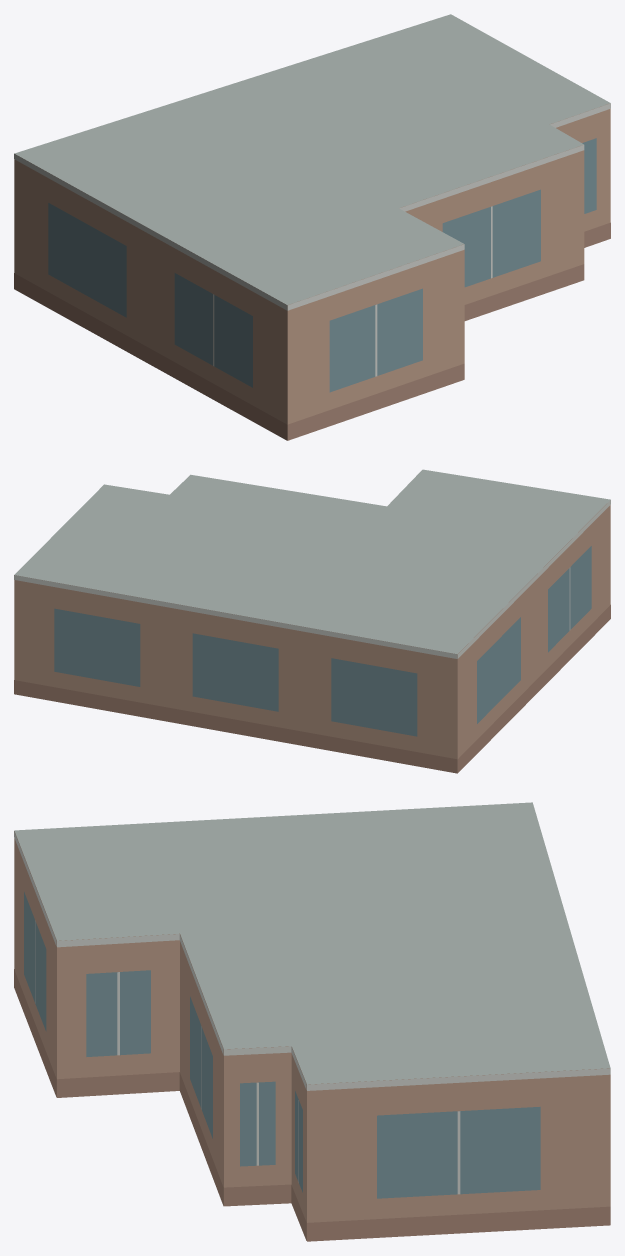
Rendered from survey-upis-32638762.glb.
The picture shows the model from 3 angles, top to bottom: view 1: azimuth 30°, elevation 25°; view 2: azimuth 150°, elevation 25°; view 3: azimuth 270°, elevation 25°; orthographic projection. The views are drawn at different scales.
Visible parts, largest first — view 1: survey-upis-32638762.tmp; view 2: survey-upis-32638762.tmp; view 3: survey-upis-32638762.tmp.
Part boxes in pixels (bbox=[...]): survey-upis-32638762.tmp: bbox=[14, 14, 610, 440]; survey-upis-32638762.tmp: bbox=[14, 469, 610, 773]; survey-upis-32638762.tmp: bbox=[14, 802, 610, 1241].
Bounding box in the file's own units: 11.77 × 3.05 × 10.51.
